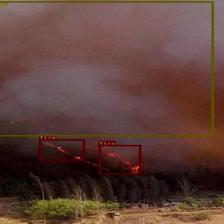fire: (99, 145, 140, 174), (39, 139, 84, 160)
smoke: (0, 1, 213, 136)
